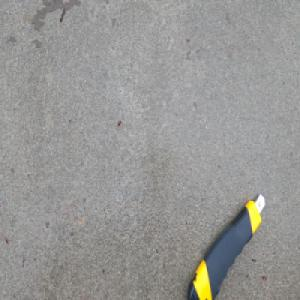Cutter: (184, 190, 265, 300)
